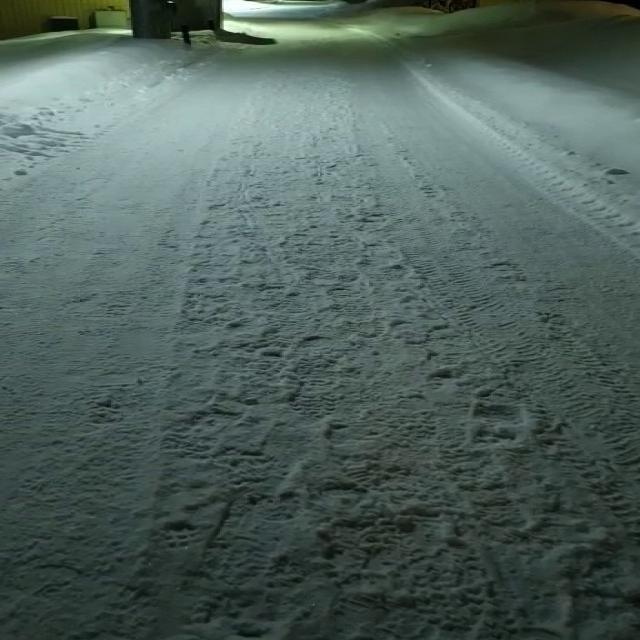path: (0, 0, 640, 640)
